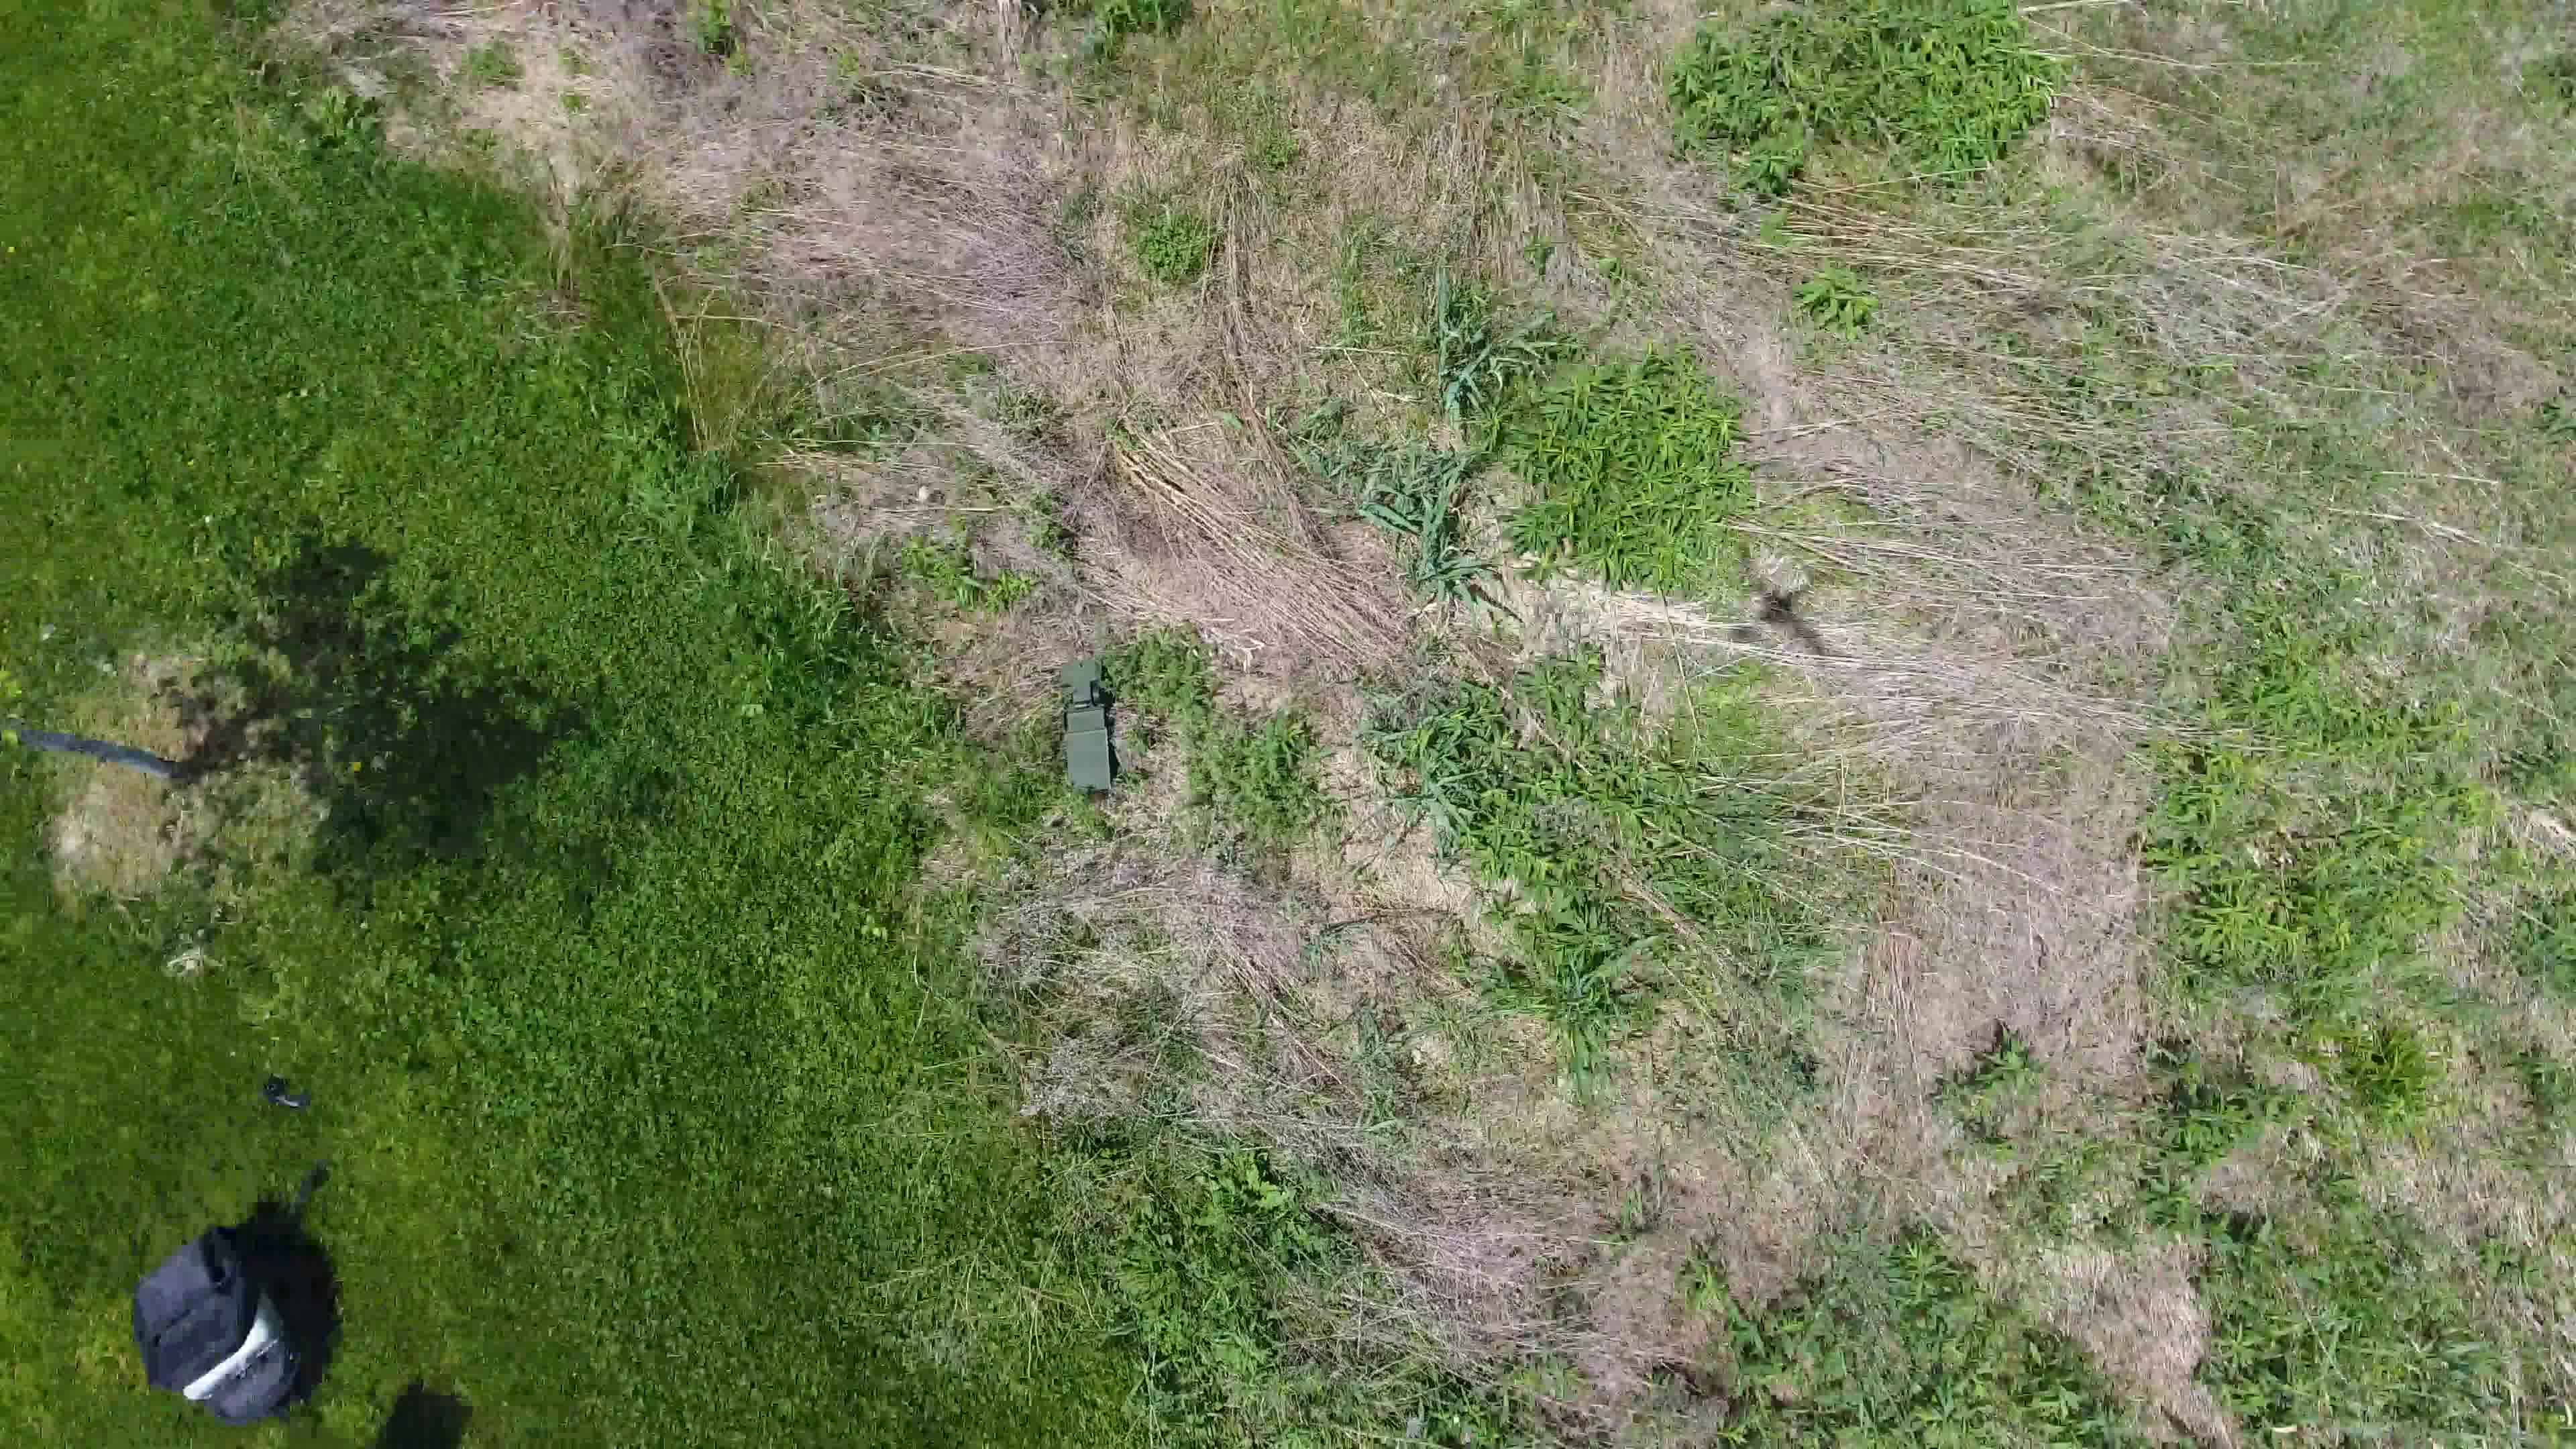transporter9: (1054, 658, 1122, 803)
